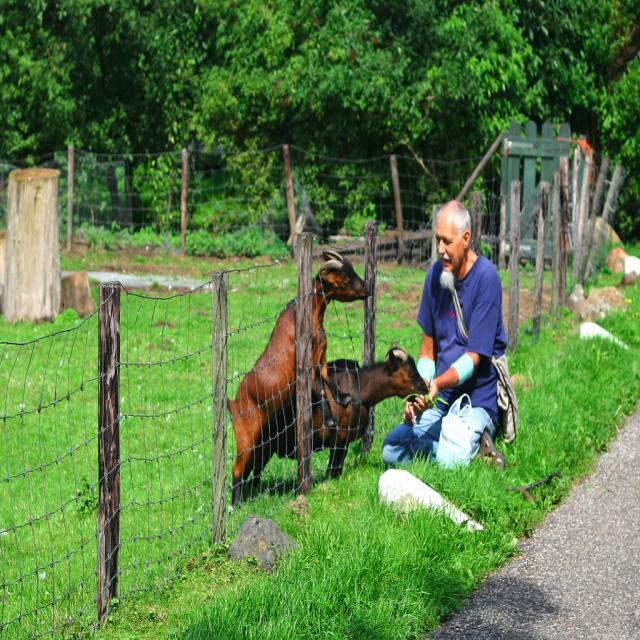Goat: (226, 248, 371, 506), (312, 341, 430, 479)
